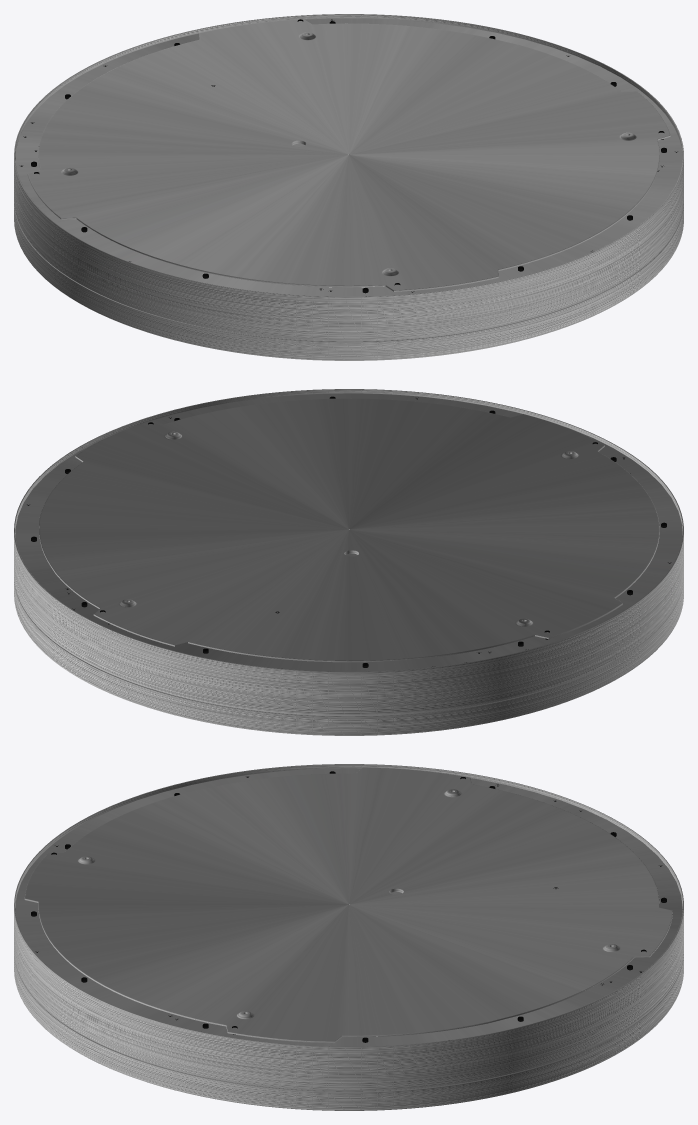
Rendered from AM152_008 Tlon Light 950 Ceiling_microprismatic.obj.
The picture shows the model from 3 angles, top to bottom: view 1: azimuth 30°, elevation 25°; view 2: azimuth 150°, elevation 25°; view 3: azimuth 270°, elevation 25°; orthographic projection.
Visible parts, largest first — view 1: AM152_008_body_m; view 2: AM152_008_body_m; view 3: AM152_008_body_m.
Boxes of the visible parts, bbox=[...] form: AM152_008_body_m: bbox=[14, 14, 683, 360]; AM152_008_body_m: bbox=[14, 389, 683, 735]; AM152_008_body_m: bbox=[14, 764, 683, 1110].
Bounding box in the file's own units: 94.94 × 10.62 × 94.94.
Materials: 3 (2 with a texture image).
